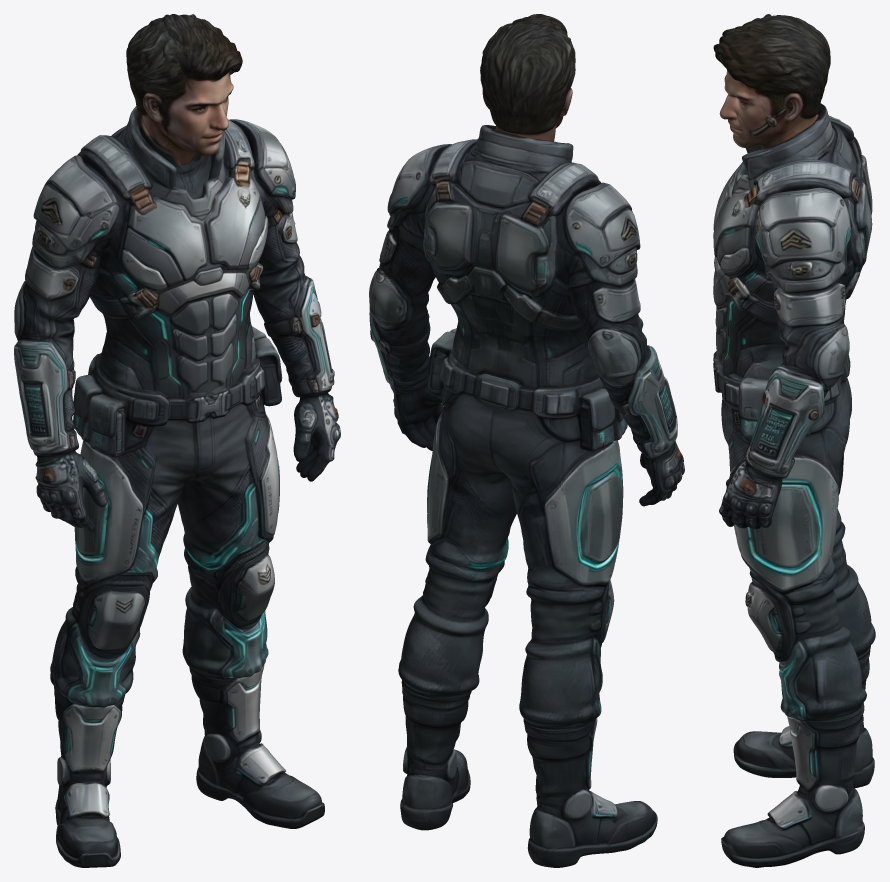
File: Hero_Human_T3.glb
3 renders of one model, left to right at view 1: azimuth 30°, elevation 25°; view 2: azimuth 150°, elevation 25°; view 3: azimuth 270°, elevation 25°, orthographic. The views are drawn at different scales.
Parts seen in each view (by area): view 1: tripo_node_503995ab-6afd-4549-98ca-2ea305ce230f; view 2: tripo_node_503995ab-6afd-4549-98ca-2ea305ce230f; view 3: tripo_node_503995ab-6afd-4549-98ca-2ea305ce230f.
Part boxes in pixels (x1=…): tripo_node_503995ab-6afd-4549-98ca-2ea305ce230f: x1=14, y1=14, x2=340, y2=867; tripo_node_503995ab-6afd-4549-98ca-2ea305ce230f: x1=369, y1=14, x2=684, y2=867; tripo_node_503995ab-6afd-4549-98ca-2ea305ce230f: x1=713, y1=14, x2=875, y2=867.
Size of the model in its own units: 0.3802 by 1 by 0.1859.
1 material, 1 textured.
